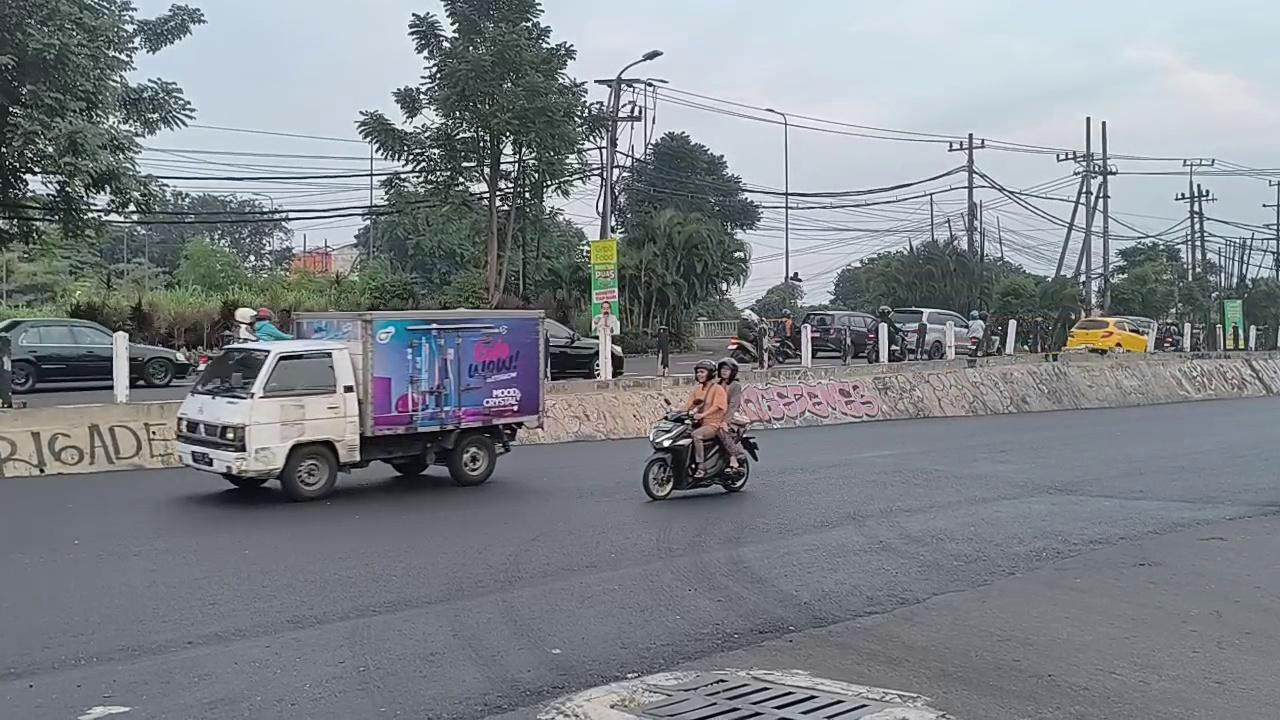Helmet: (683, 360, 727, 477), (717, 357, 745, 470), (877, 305, 906, 350), (253, 308, 293, 340), (968, 310, 985, 354), (778, 309, 796, 343)
Motor: (642, 411, 749, 500), (727, 337, 758, 365), (969, 334, 1002, 356), (772, 338, 798, 363), (866, 329, 879, 363)
